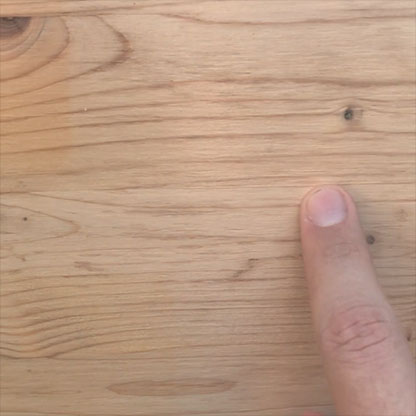fingertip: (291, 177, 369, 245)
